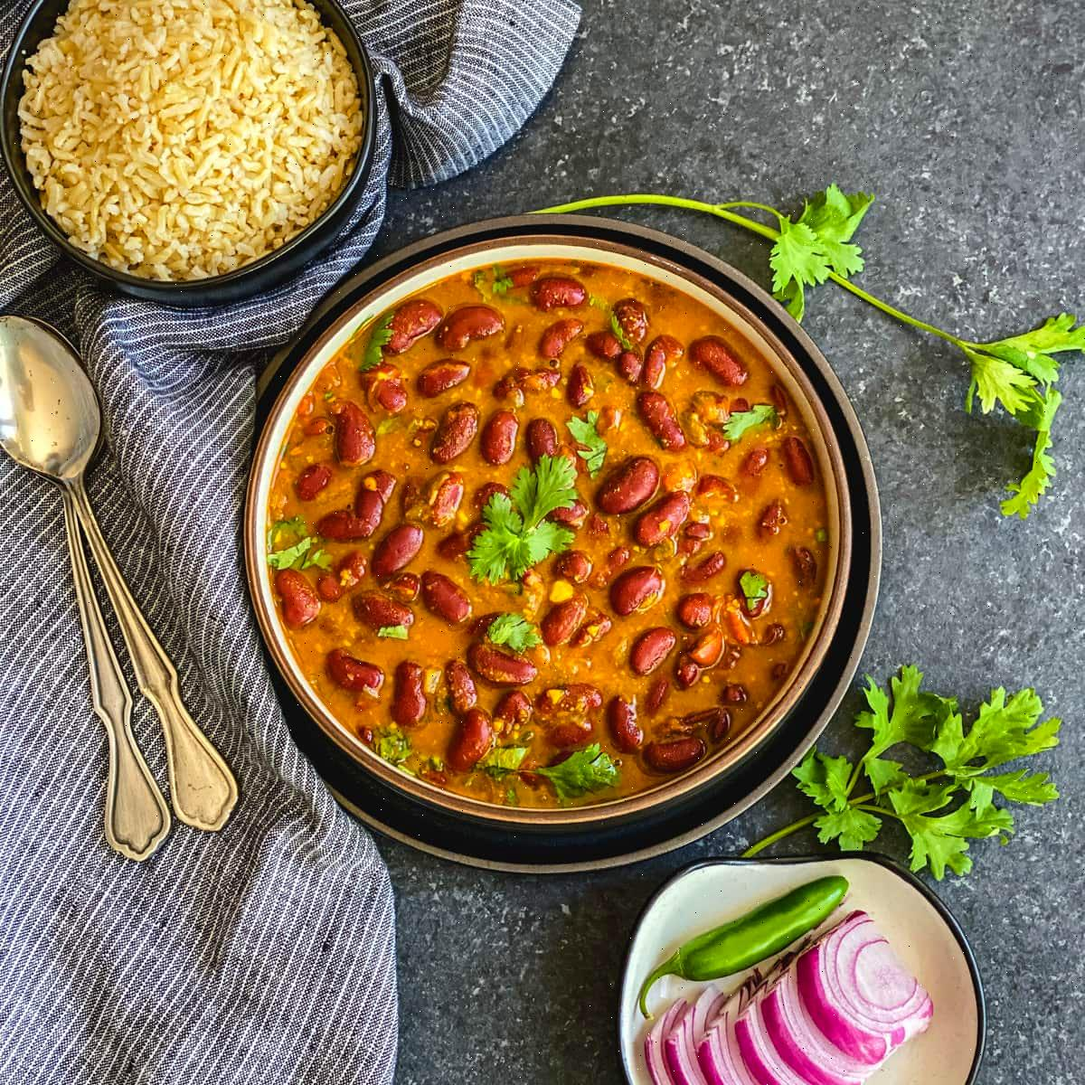rajma: (307, 307, 790, 772)
rice: (39, 0, 319, 253)
